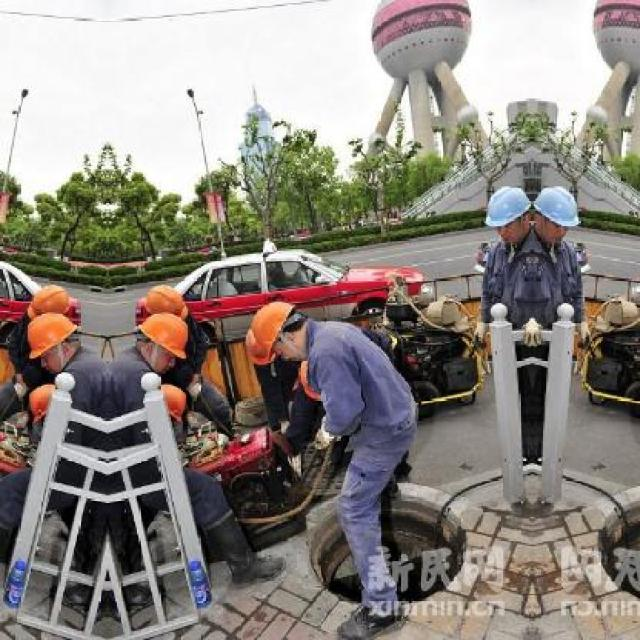helmet: (245, 295, 309, 370), (20, 306, 82, 362), (131, 306, 192, 362), (483, 182, 529, 246), (532, 182, 578, 246), (143, 282, 186, 324), (26, 282, 69, 324)
